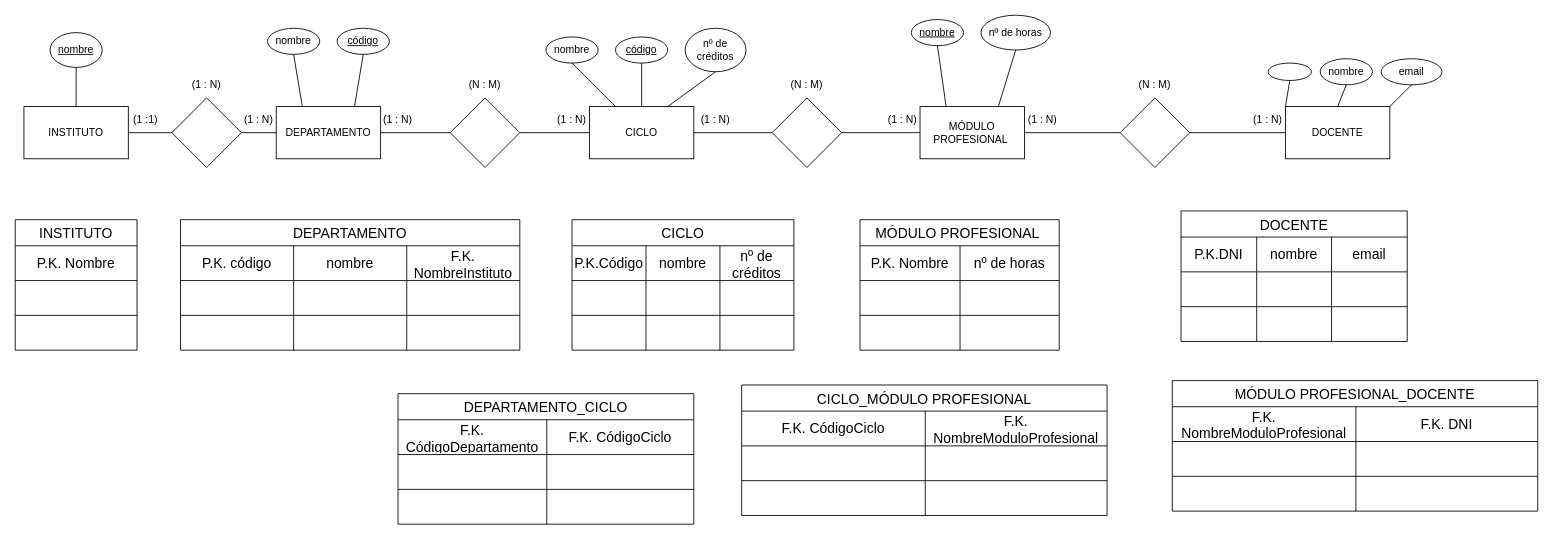
Some shapes in this 1553 by 539 pixel diagram are drawn without their labels. Each missing label, with the centre of its shape:
compuesto por: point (806, 132)
DNI: point (1289, 71)
formado por: point (206, 132)
imparte: point (484, 132)
impartido por: point (1154, 132)
